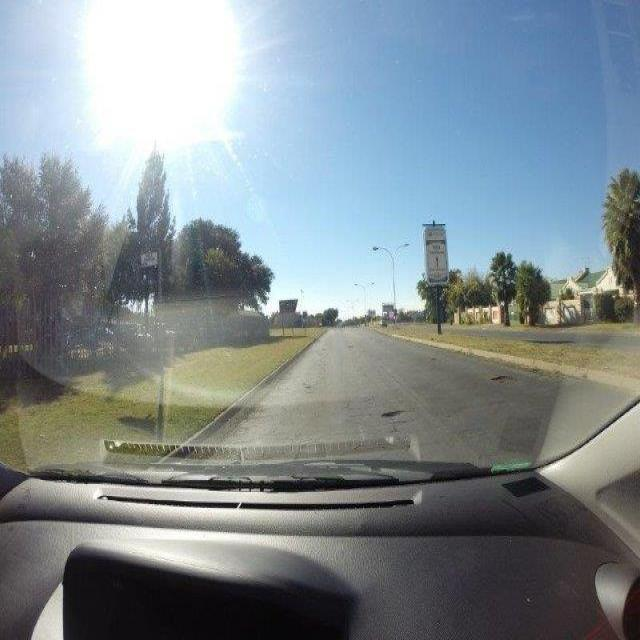lubang: (381, 399, 412, 424), (489, 369, 516, 387)
